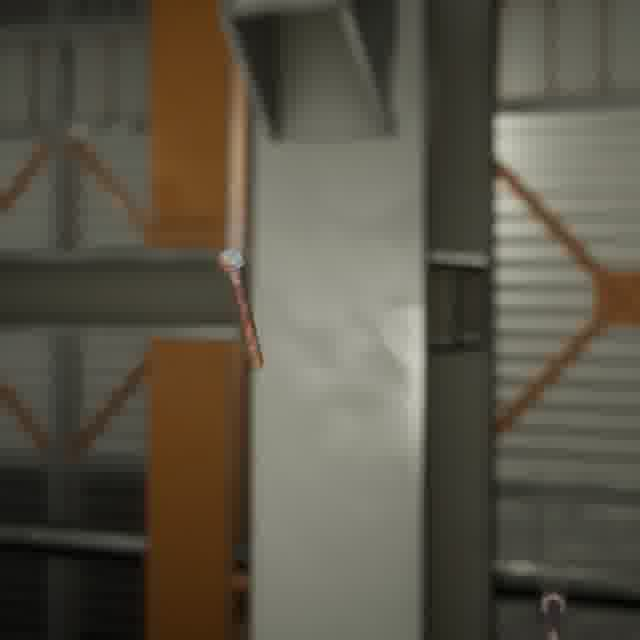bolt: (213, 243, 268, 374), (537, 585, 569, 640)
